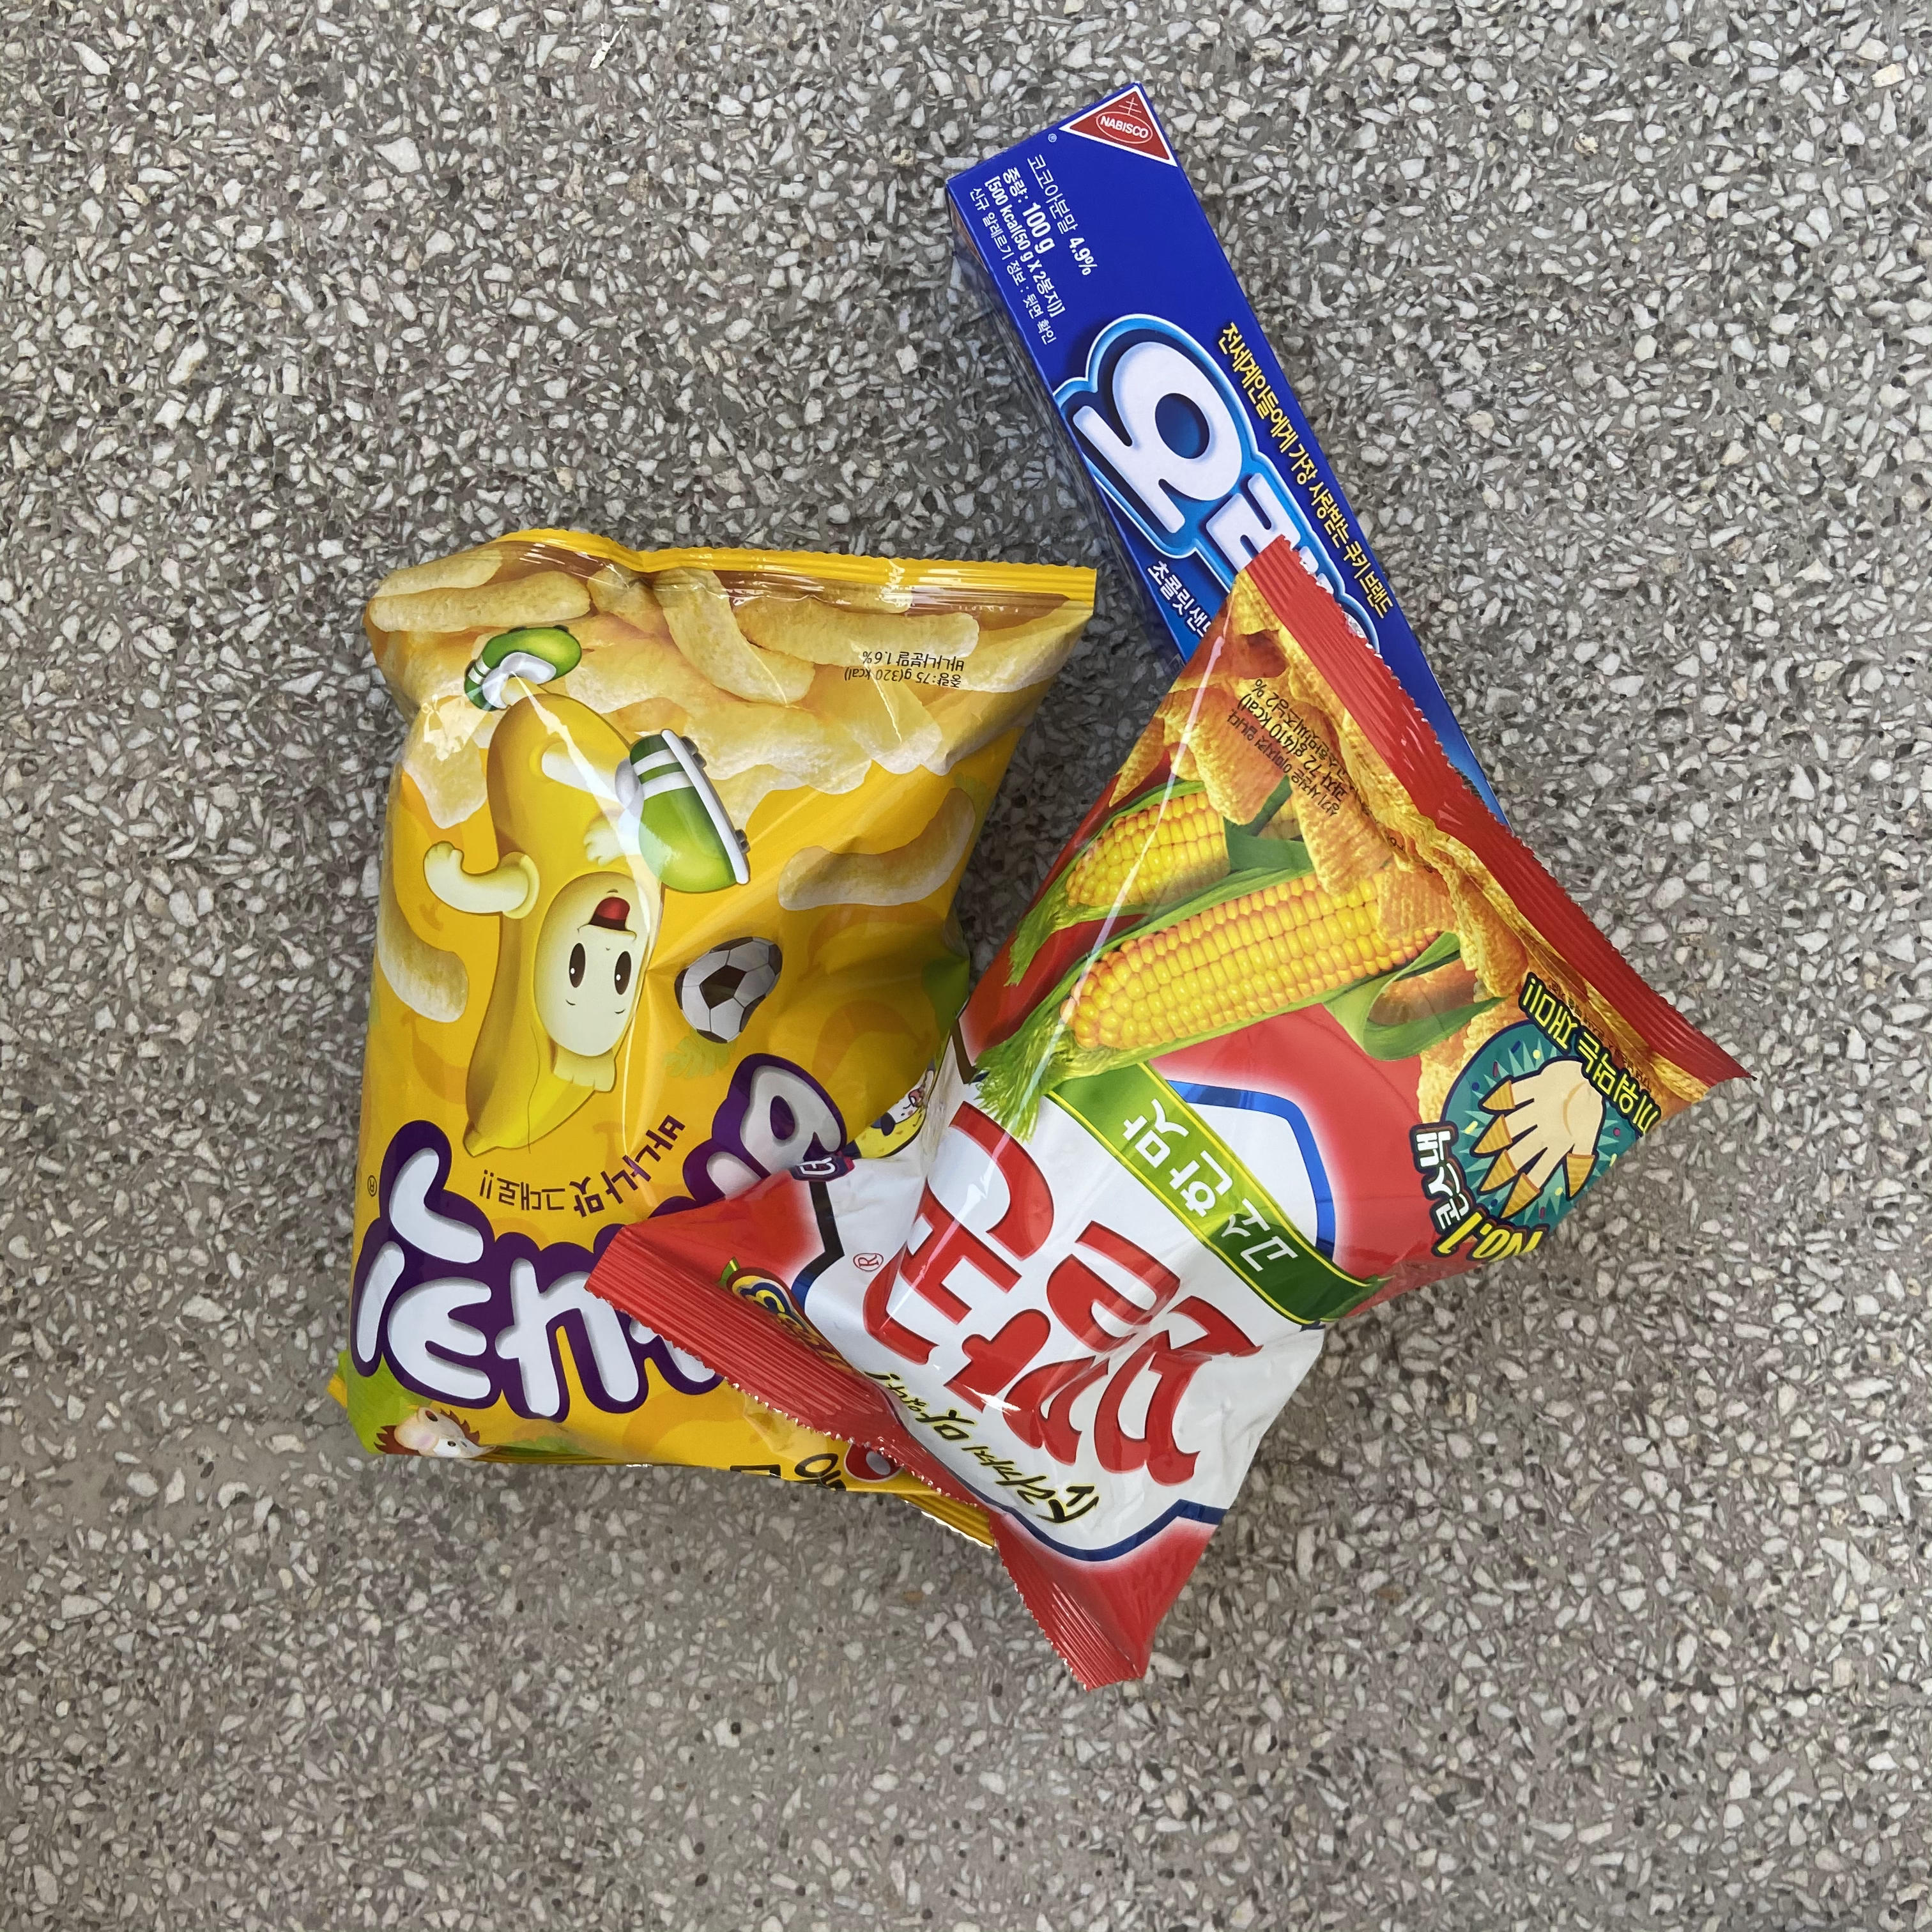banana: (322, 515, 1108, 1566)
ggoggalcon: (589, 543, 1748, 1702)
oreo: (931, 73, 1532, 932)
